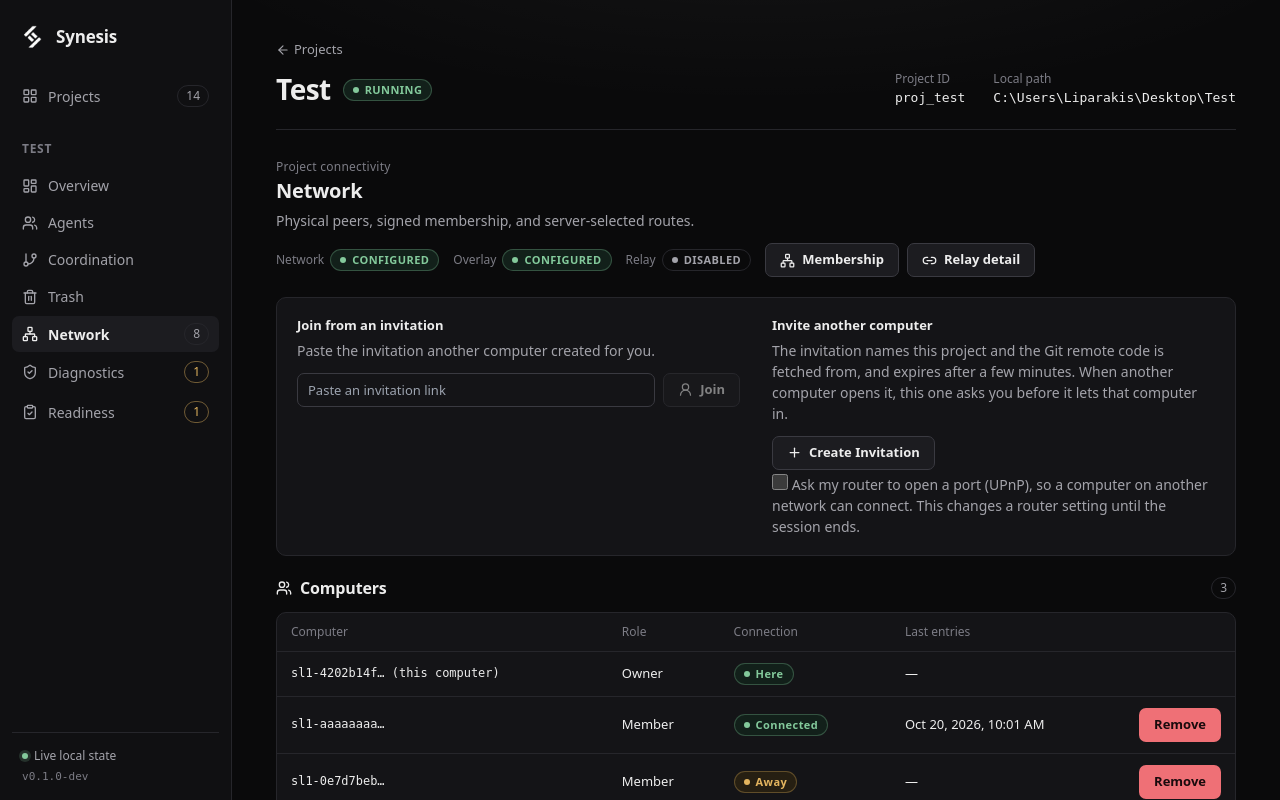
the project's computers › explains a refusal in words
The image size is (1280, 800).
Expected: the heading "Computers" is shown, left=276, top=576, right=387, bottom=600
Click the button with aria-label "Remove sl1-0e7d7beb…".
click(1180, 782)  # box left=1139, top=765, right=1221, bottom=799
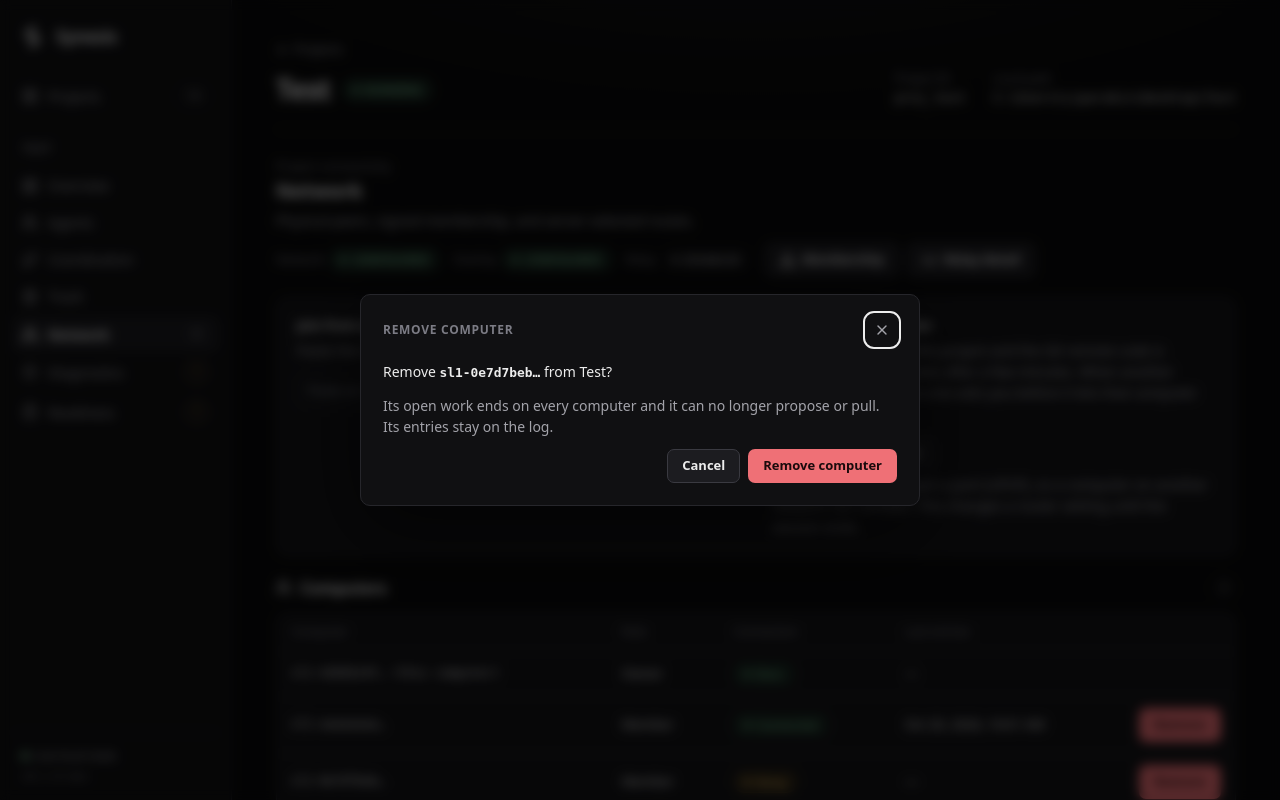
Click the button "Remove computer".
click(823, 466)  # box left=748, top=449, right=897, bottom=483
(page scrolled)
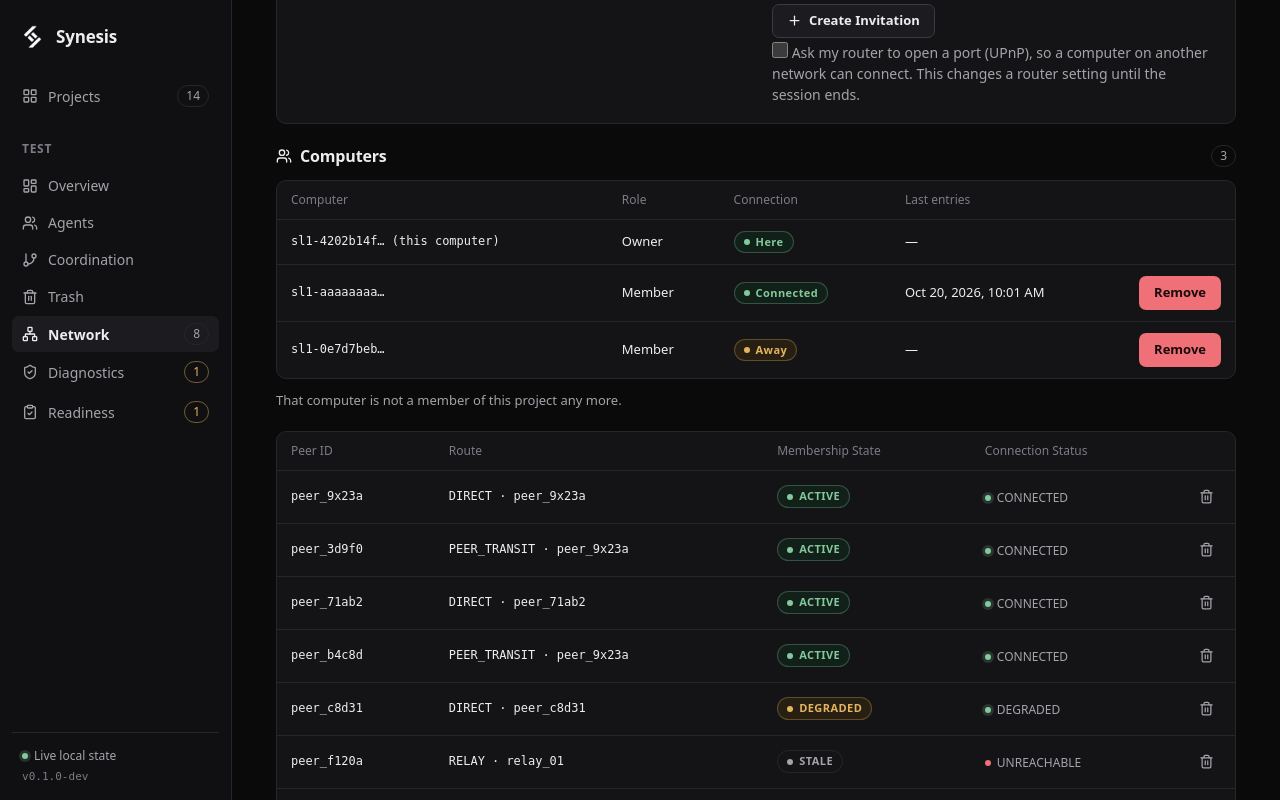
Expected: the text "That computer is not a member of this project any more." is shown, left=276, top=391, right=622, bottom=409
